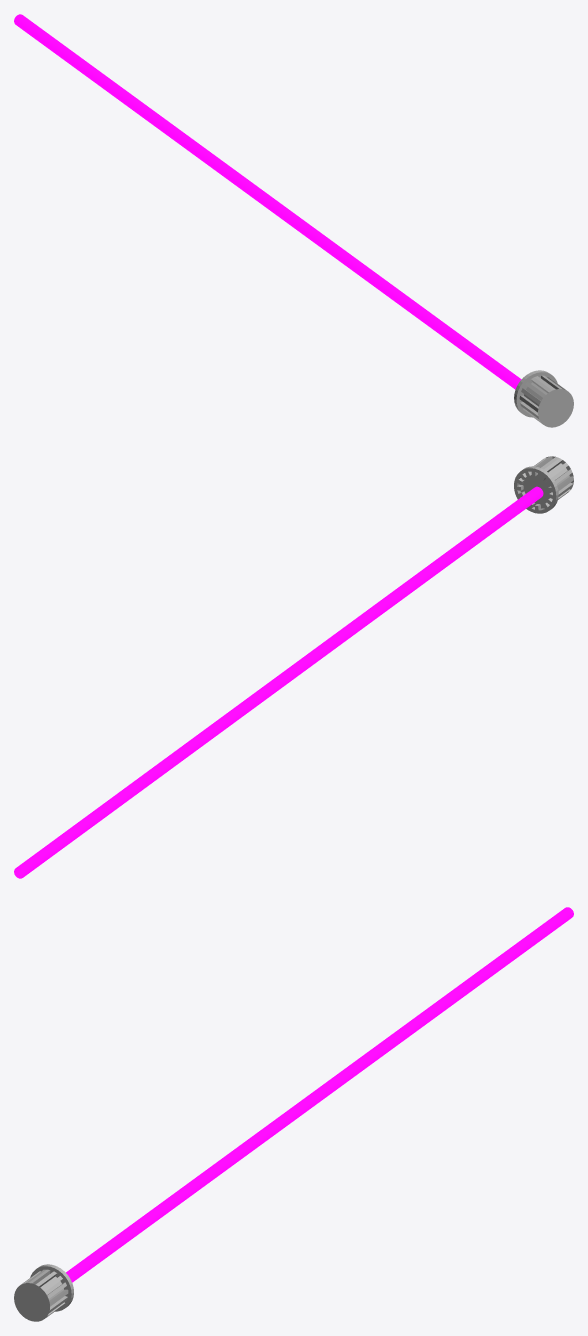
File: LAZER.fbx
The picture shows the model from 3 angles, top to bottom: view 1: azimuth 30°, elevation 25°; view 2: azimuth 150°, elevation 25°; view 3: azimuth 330°, elevation 25°; orthographic projection.
Parts seen in each view (by area): view 1: Circle, Cylinder; view 2: Circle, Cylinder; view 3: Circle, Cylinder.
Boxes of the visible parts, box(x1,y1,x2,y2) form: Circle: box(14, 14, 521, 389); Cylinder: box(514, 370, 573, 427); Circle: box(14, 486, 543, 878); Cylinder: box(514, 456, 573, 513); Circle: box(66, 907, 573, 1282); Cylinder: box(14, 1264, 73, 1321).
Size of the model in its own units: 123 by 123 by 2708.
